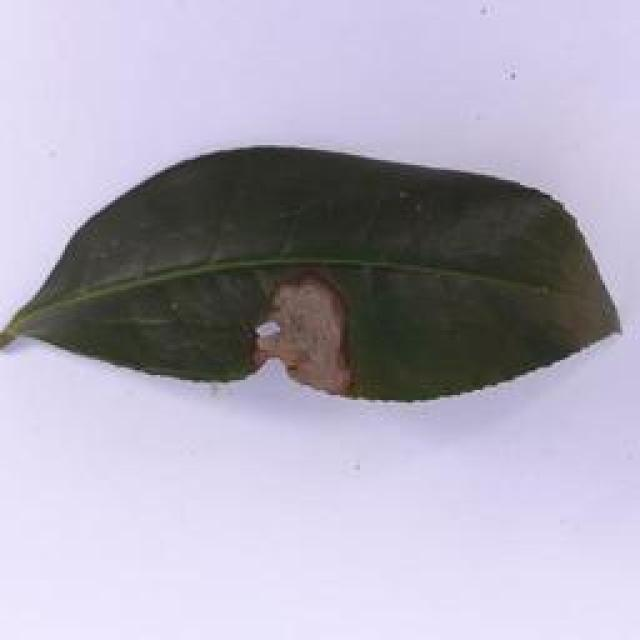Gray Blight: (0, 141, 635, 411)
